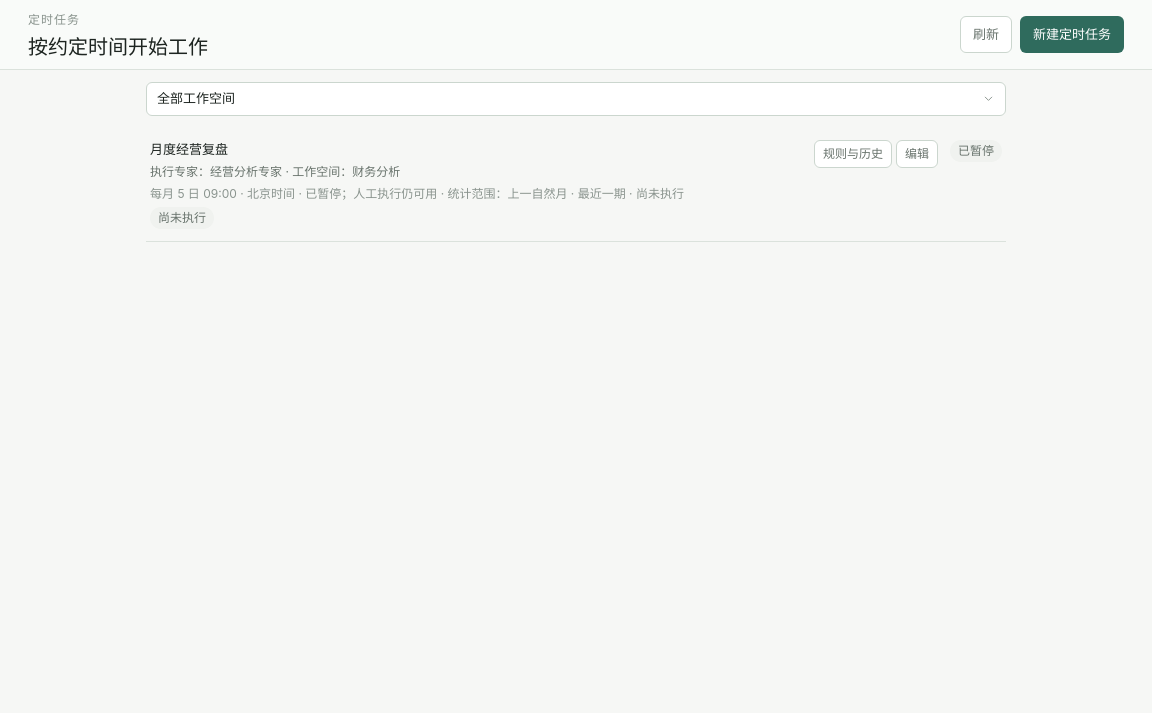
Test: SchedulesPage › opens the full-page editor from create and row edit actions, then returns to the list
Click the button "新建定时任务" at (1072, 35), box x1=1020 y1=16 x2=1124 y2=53
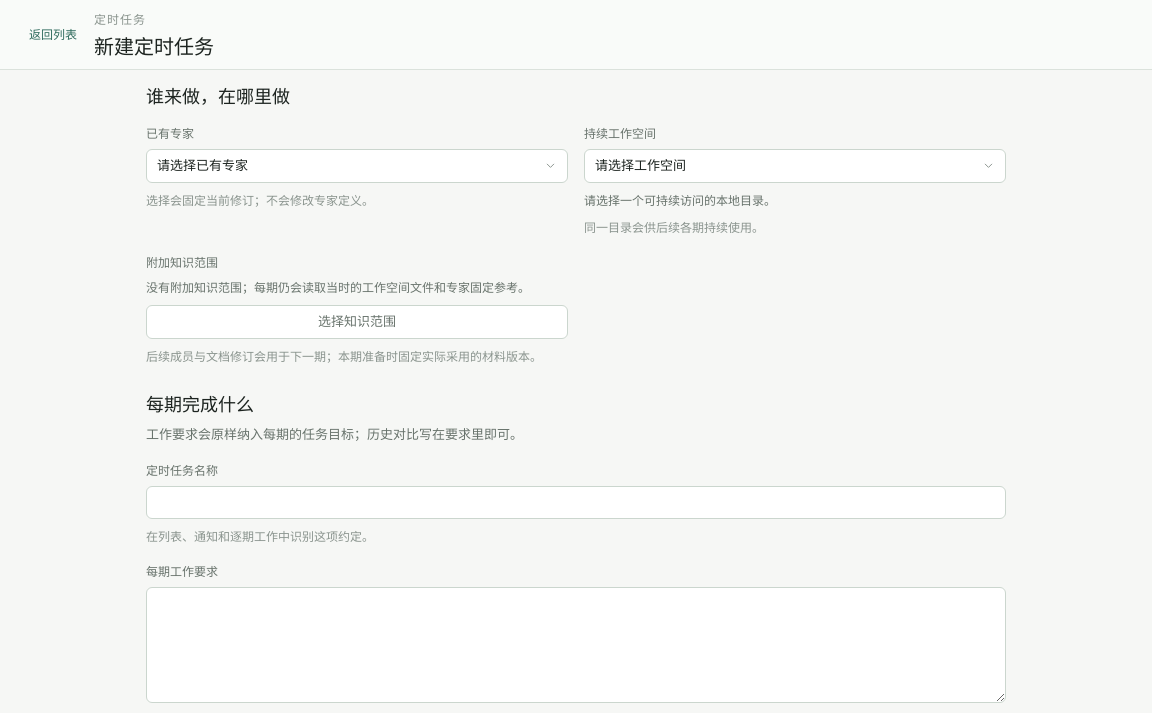
Now the heading "新建定时任务" is shown, box x1=94 y1=30 x2=214 y2=60
Click the button "返回列表" at (53, 34), box x1=28 y1=20 x2=78 y2=48
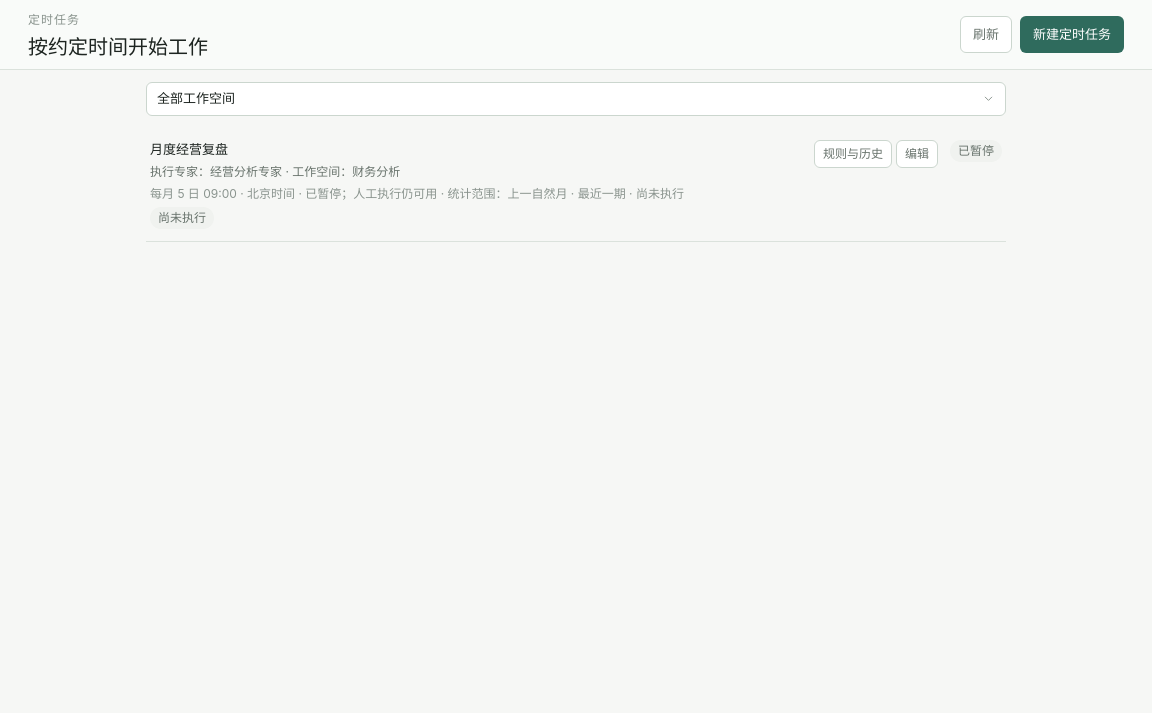
Now the heading "按约定时间开始工作" is shown, box x1=28 y1=30 x2=208 y2=60
Click the button "编辑" at (917, 154), box x1=896 y1=140 x2=938 y2=168
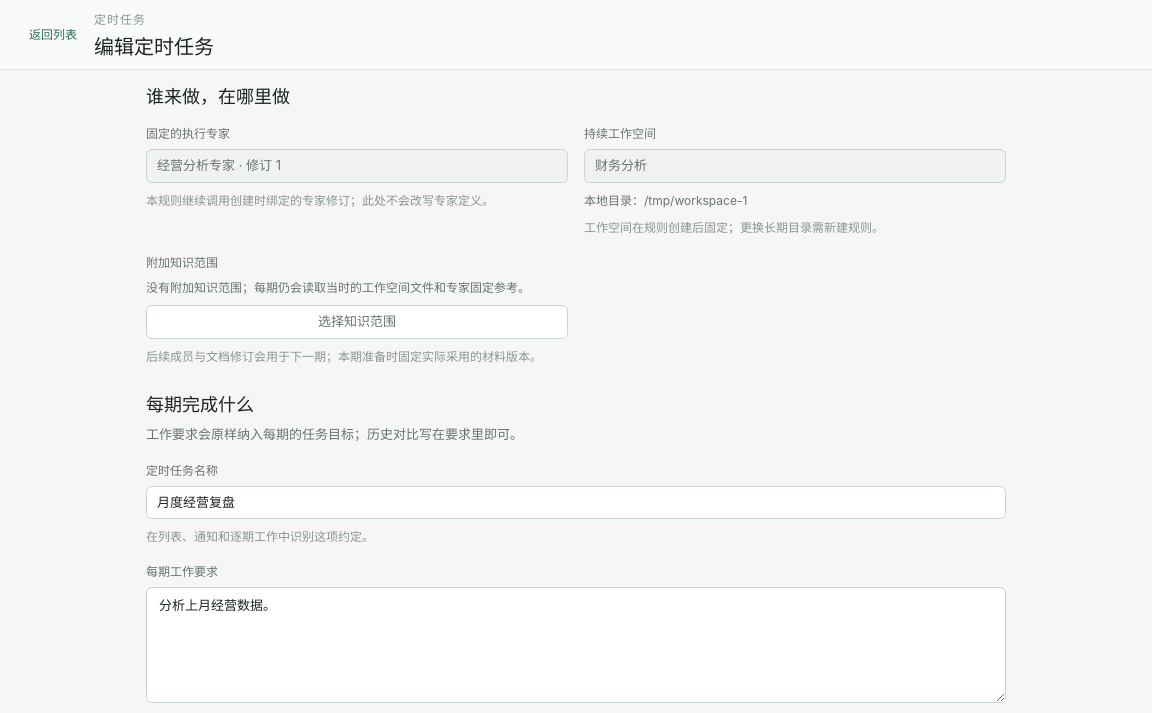
Now the heading "编辑定时任务" is shown, box x1=94 y1=30 x2=214 y2=60
Now the field labelled "固定的执行专家" is shown, box x1=146 y1=149 x2=568 y2=182
